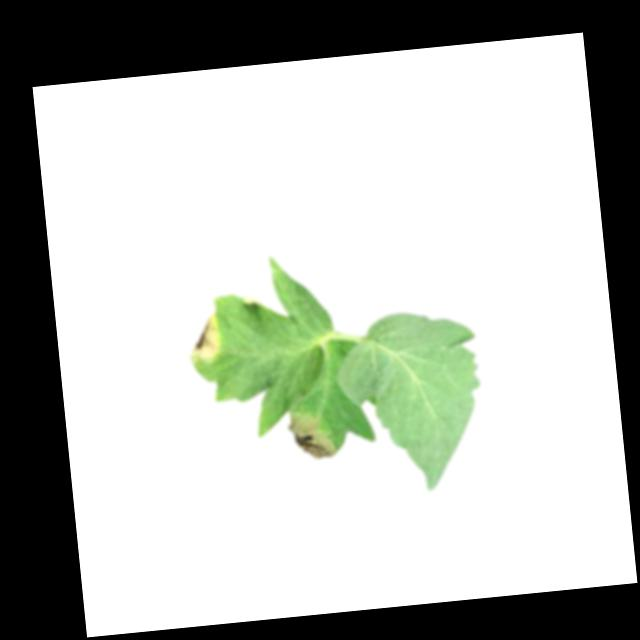Late_blight: (286, 406, 336, 463), (182, 312, 223, 364)
healthy: (332, 304, 491, 500)
